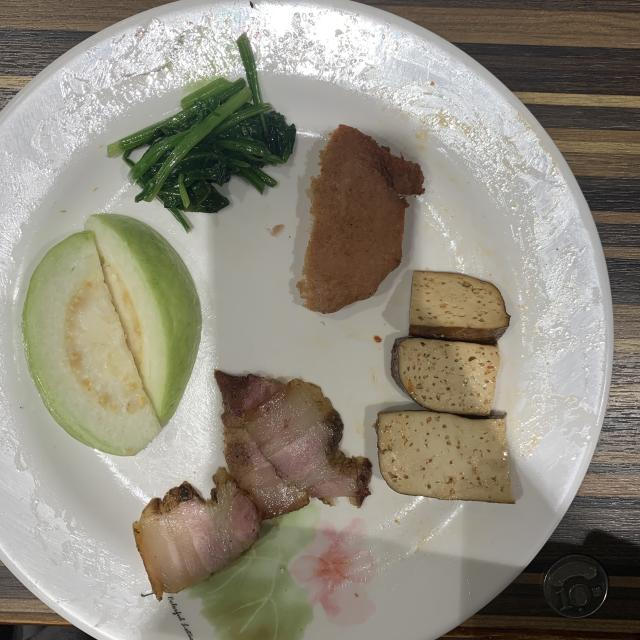Spam: (296, 125, 425, 314)
coin: (544, 555, 609, 618)
firm tofu: (376, 271, 515, 502)
grilled pork: (134, 370, 371, 600)
guava -sliced-: (22, 215, 201, 455)
mustard greens: (108, 34, 296, 231)
